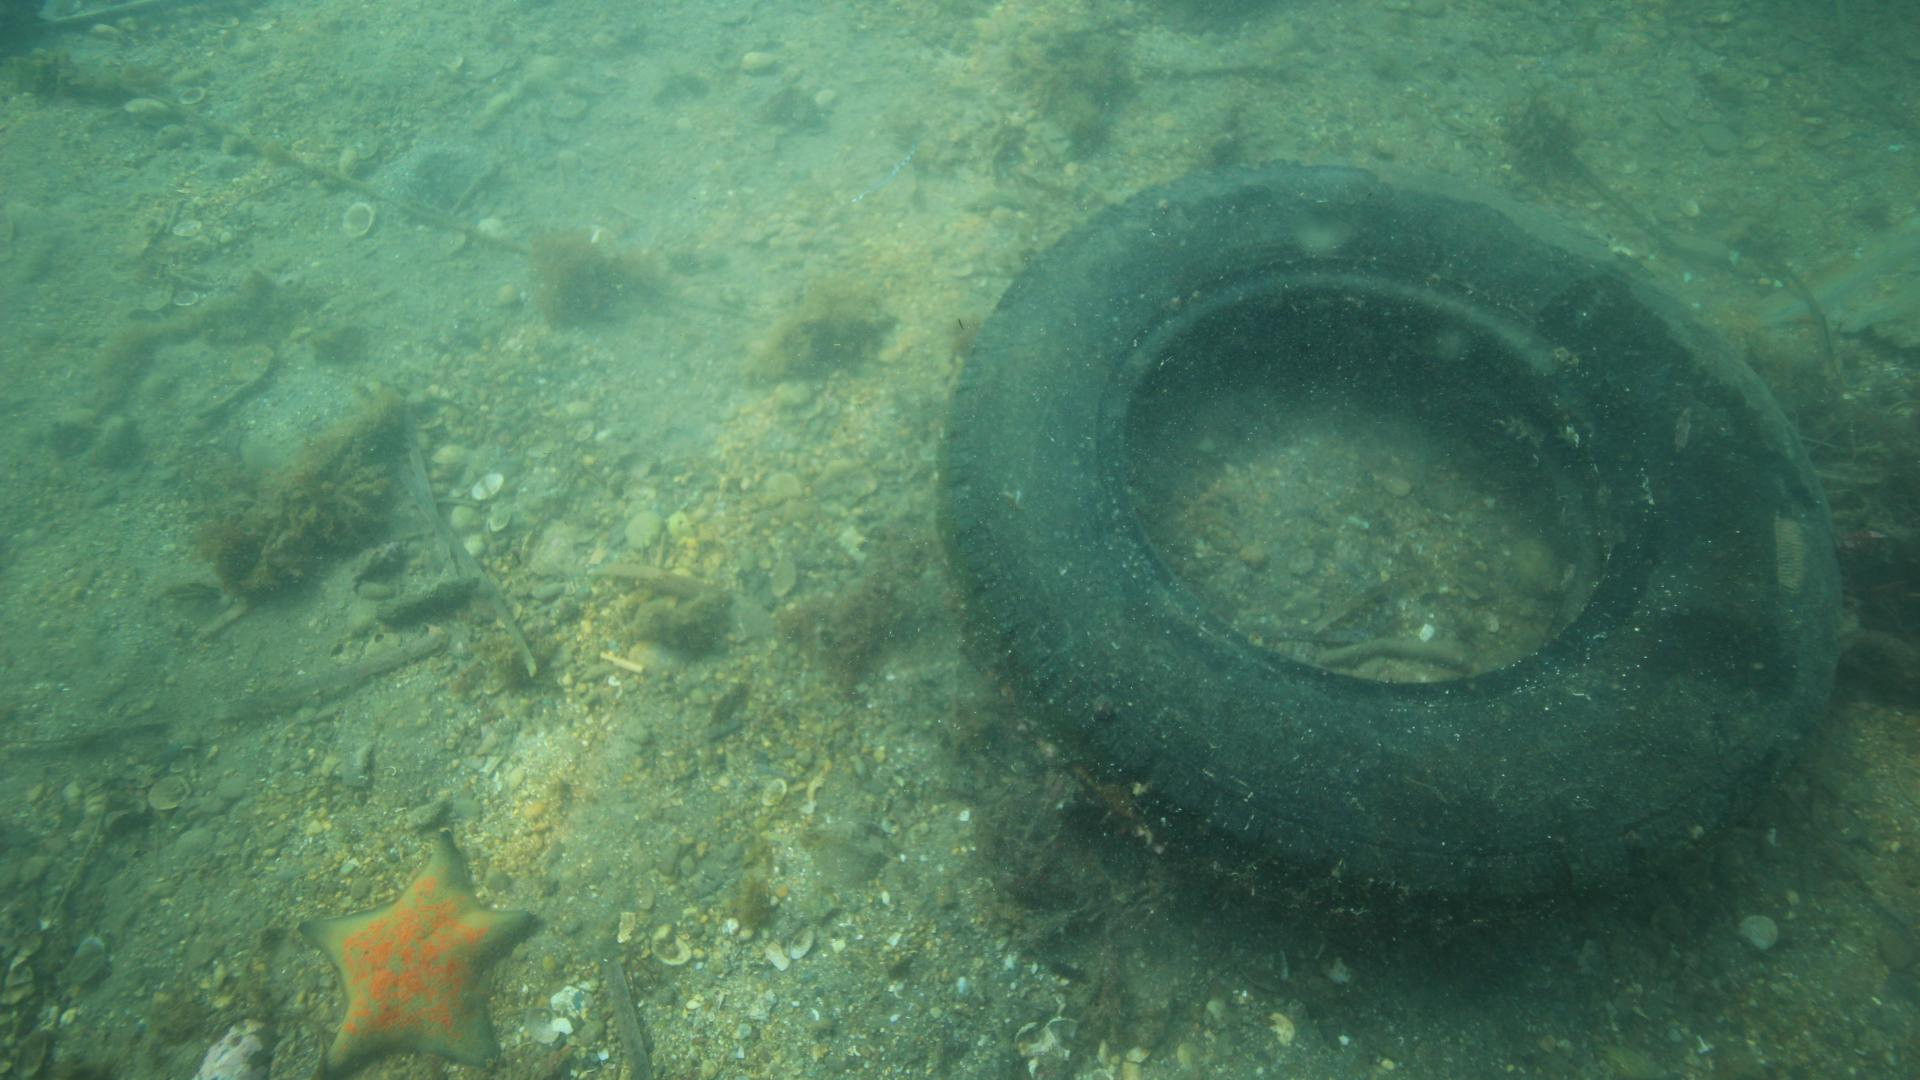tire: (942, 156, 1849, 914)
